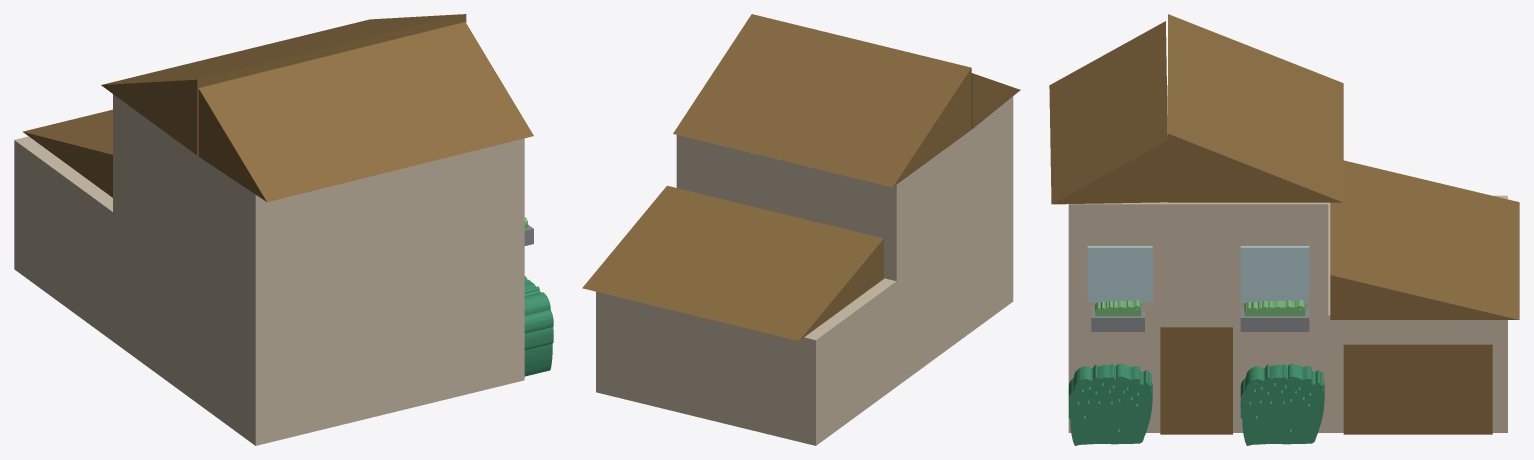
The model's file is House.glb.
3 views of the same model, side by side, from view 1: azimuth 30°, elevation 25°; view 2: azimuth 150°, elevation 25°; view 3: azimuth 270°, elevation 25° (orthographic). The views are drawn at different scales.
Parts seen in each view (by area): view 1: Mesh_Mesh_head_geo.001_lambert2SG.001; view 2: Mesh_Mesh_head_geo.001_lambert2SG.001; view 3: Mesh_Mesh_head_geo.001_lambert2SG.001.
Boxes of the visible parts, x1,y1,x2,y2 form: Mesh_Mesh_head_geo.001_lambert2SG.001: [14, 14, 553, 445]; Mesh_Mesh_head_geo.001_lambert2SG.001: [582, 14, 1020, 445]; Mesh_Mesh_head_geo.001_lambert2SG.001: [1049, 14, 1519, 445].
Size of the model in its own units: 83 by 86.01 by 123.
